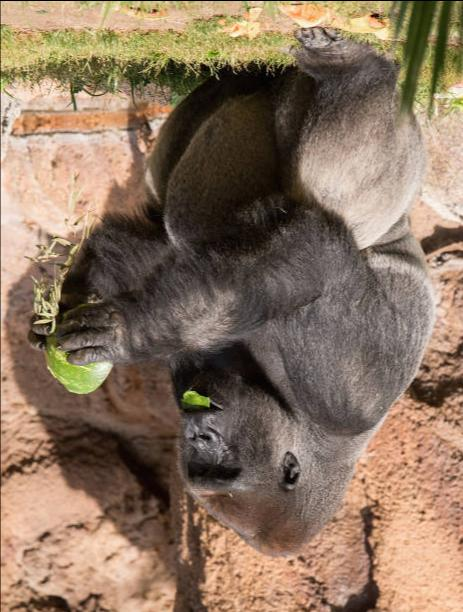gorille_Autres: (22, 27, 441, 565)
